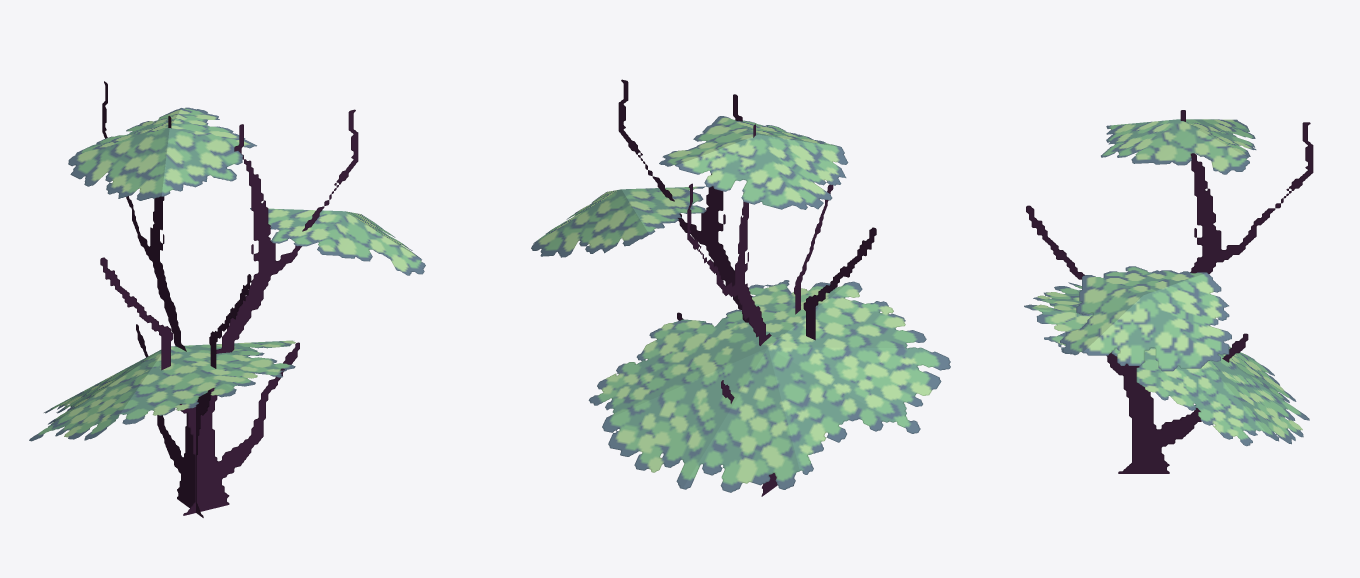
The model's file is bush_02b.fbx.
The picture shows the model from 3 angles, left to right: view 1: azimuth 30°, elevation 25°; view 2: azimuth 150°, elevation 25°; view 3: azimuth 270°, elevation 25°; orthographic projection. The views are drawn at different scales.
Visible parts, largest first — view 1: bush_02b; view 2: bush_02b; view 3: bush_02b.
Boxes of the visible parts, box(x1,y1,x2,y2) form: bush_02b: box(29, 81, 425, 517); bush_02b: box(531, 79, 950, 496); bush_02b: box(1024, 110, 1313, 473).
Size of the model in its own units: 0.3163 by 0.3206 by 0.2523.
Materials: 1 (1 with a texture image).
